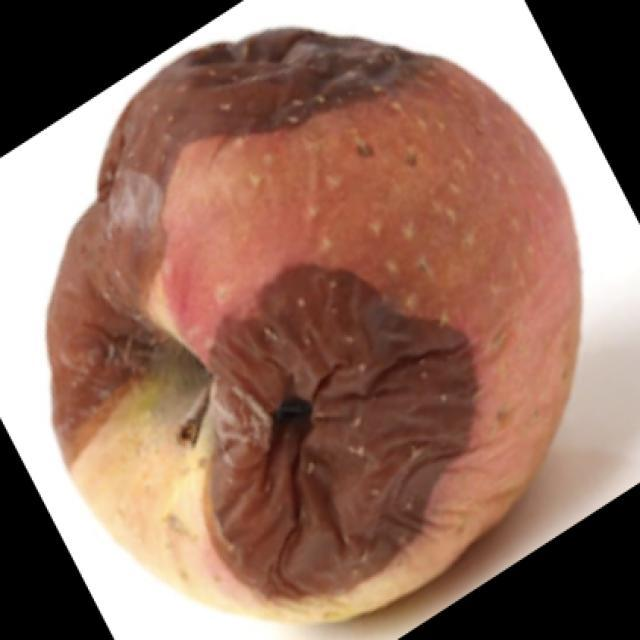Rotten: (60, 28, 578, 617)
